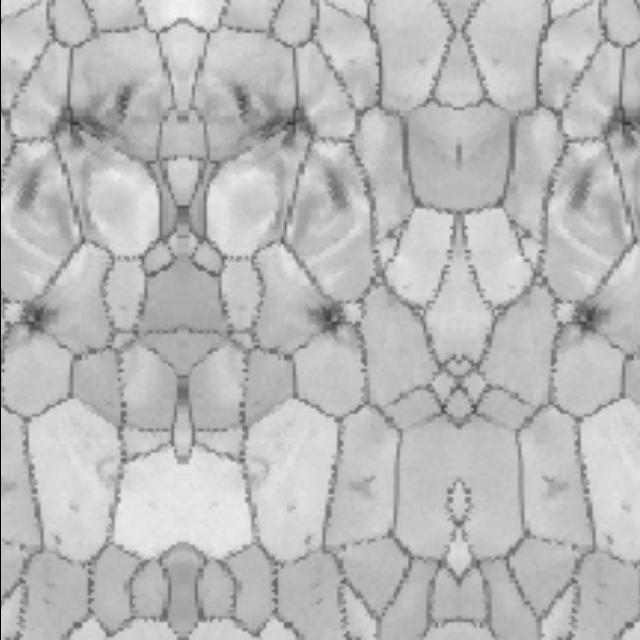good_void: (44, 82, 135, 166), (230, 82, 320, 166), (300, 292, 357, 339), (561, 292, 618, 339), (7, 292, 64, 339), (598, 102, 640, 159), (326, 163, 349, 208), (569, 163, 592, 208), (16, 163, 39, 208), (346, 473, 376, 499), (542, 473, 572, 499), (0, 476, 19, 498), (286, 502, 298, 517), (620, 502, 632, 517), (66, 502, 78, 517), (302, 533, 311, 545), (607, 533, 616, 545), (54, 533, 62, 545)
